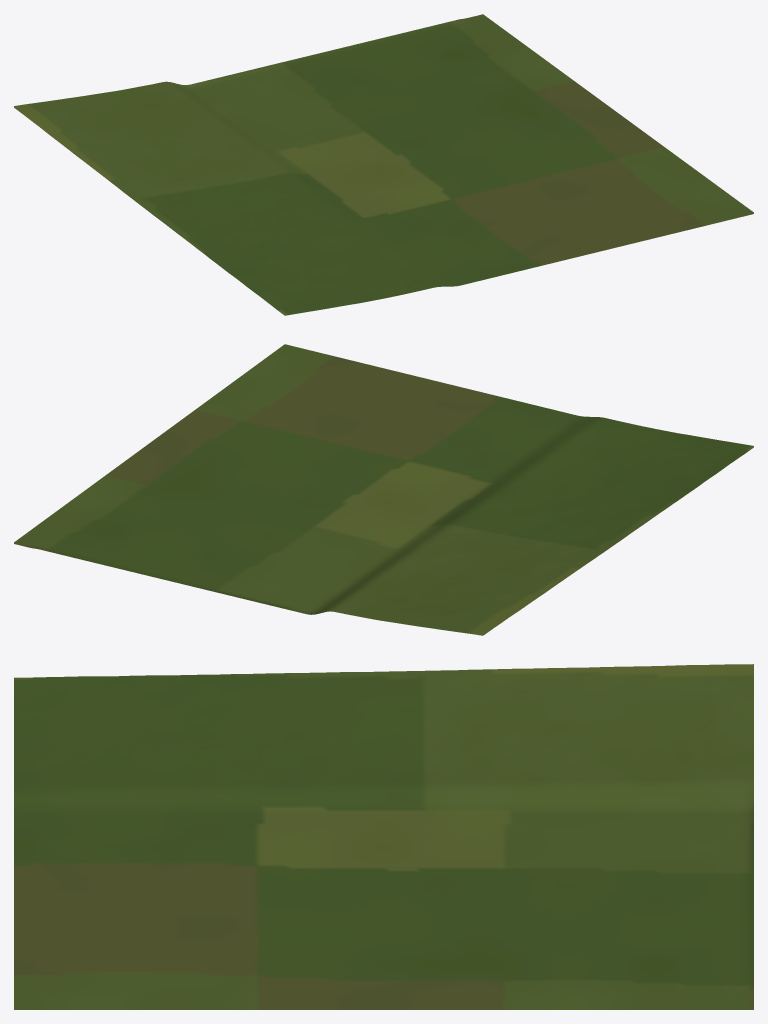
The model's file is land_n_01_02.glb.
3 renders of one model, top to bottom at view 1: azimuth 30°, elevation 25°; view 2: azimuth 150°, elevation 25°; view 3: azimuth 270°, elevation 25°, orthographic. The views are drawn at different scales.
Visible parts, largest first — view 1: land_n_01_02; view 2: land_n_01_02; view 3: land_n_01_02.
Part boxes in pixels (<box>): land_n_01_02: <box>14,14,753,315</box>; land_n_01_02: <box>14,344,753,635</box>; land_n_01_02: <box>14,664,753,1009</box>.
Size of the model in its own units: 480 by 23.6 by 480.
